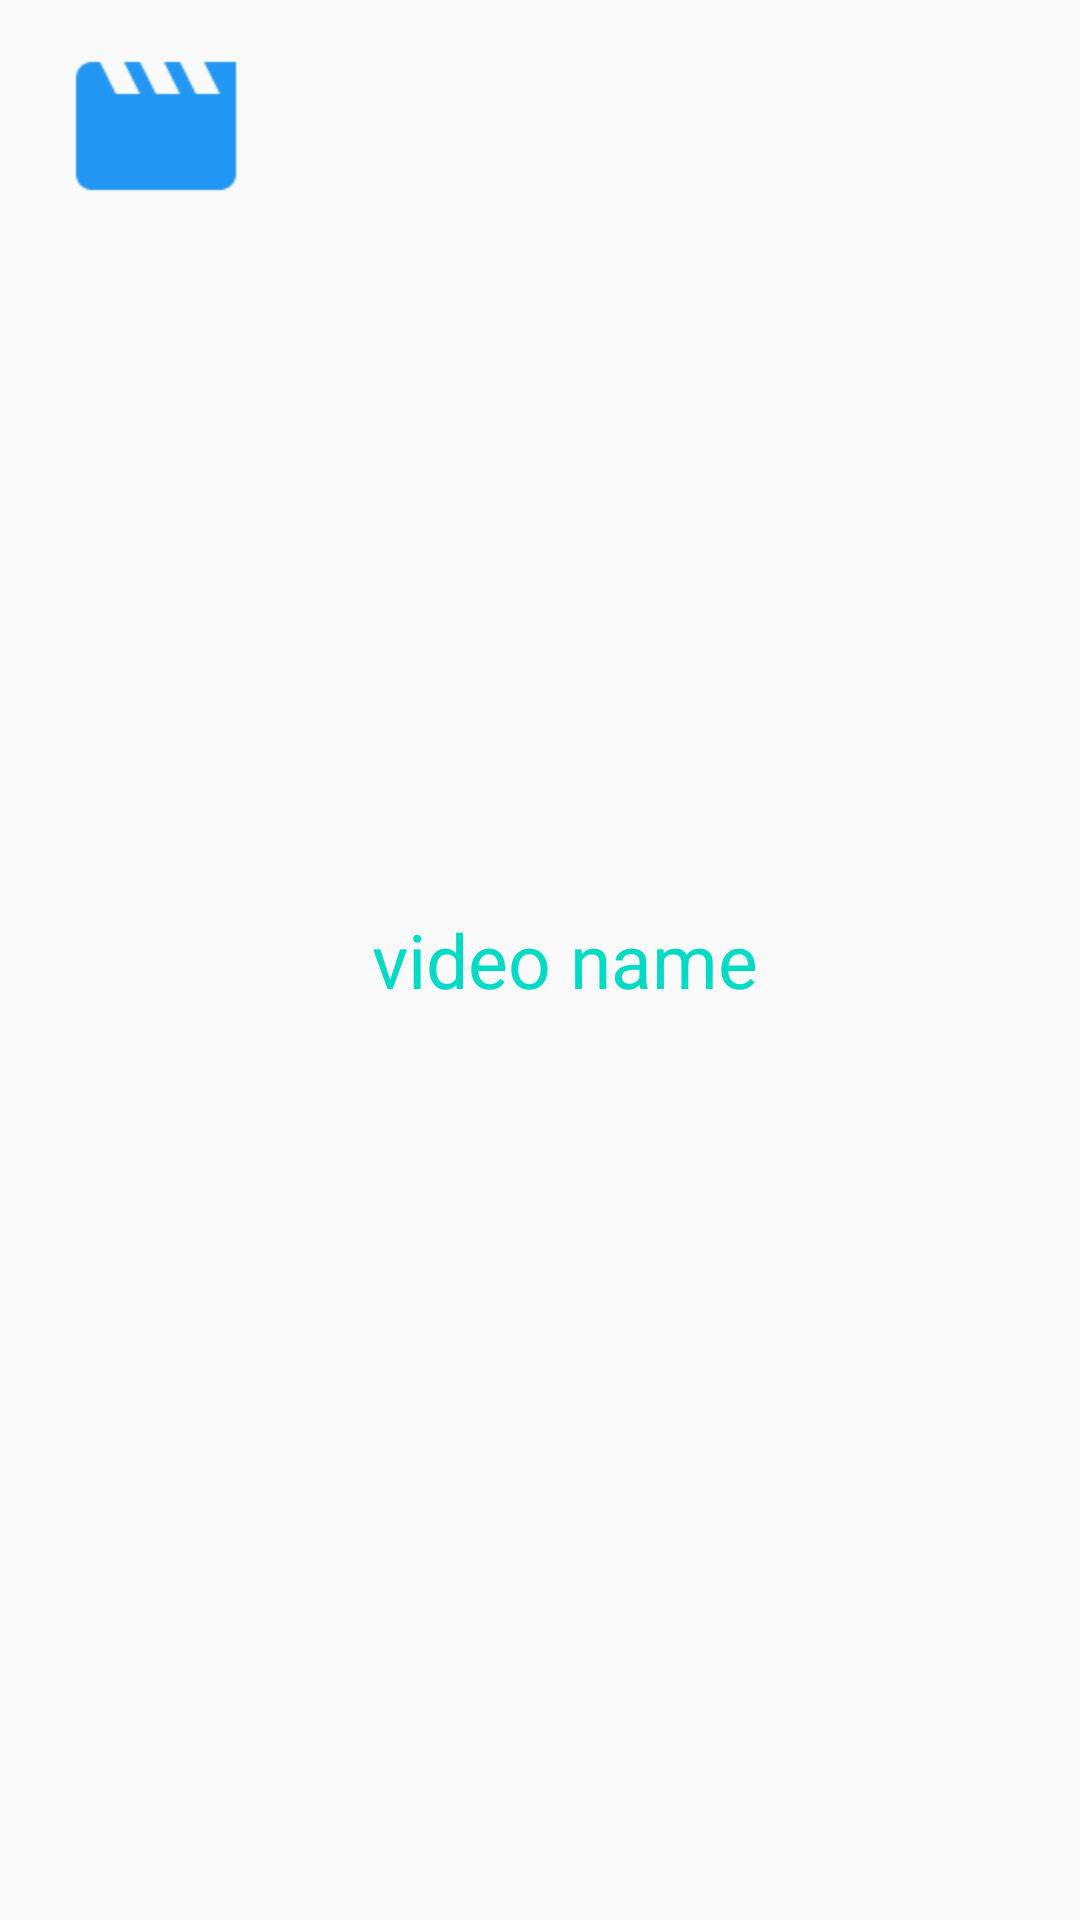

Icon click points for this 1080 x 1920 phone screenshot, format [x,y]:
movie: [156,126]
